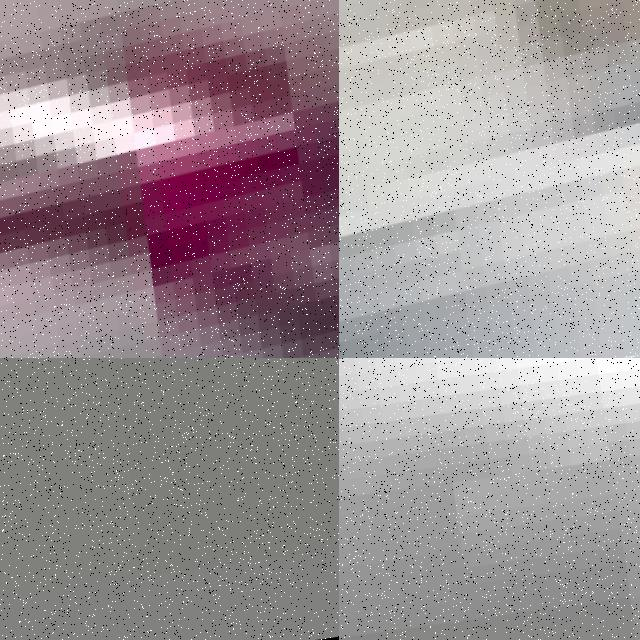drone: (0, 0, 339, 358), (339, 0, 640, 358)
